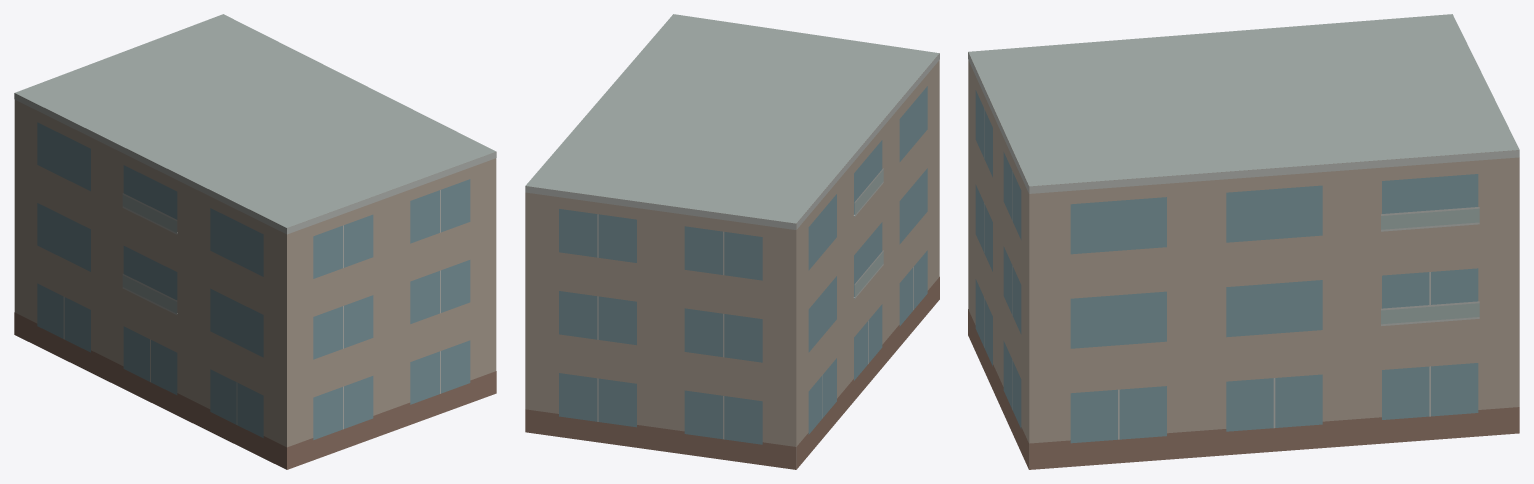
File: survey-upis-32707330.glb
3 renders of one model, left to right at view 1: azimuth 30°, elevation 25°; view 2: azimuth 150°, elevation 25°; view 3: azimuth 270°, elevation 25°, orthographic. The views are drawn at different scales.
Visible parts, largest first — view 1: survey-upis-32707330.tmp; view 2: survey-upis-32707330.tmp; view 3: survey-upis-32707330.tmp.
Part boxes in pixels (x1,y1,x2,y2): survey-upis-32707330.tmp: (14,14,496,469); survey-upis-32707330.tmp: (525,14,939,469); survey-upis-32707330.tmp: (968,14,1519,469).
Size of the model in its own units: 11.94 by 9.15 by 16.15.
